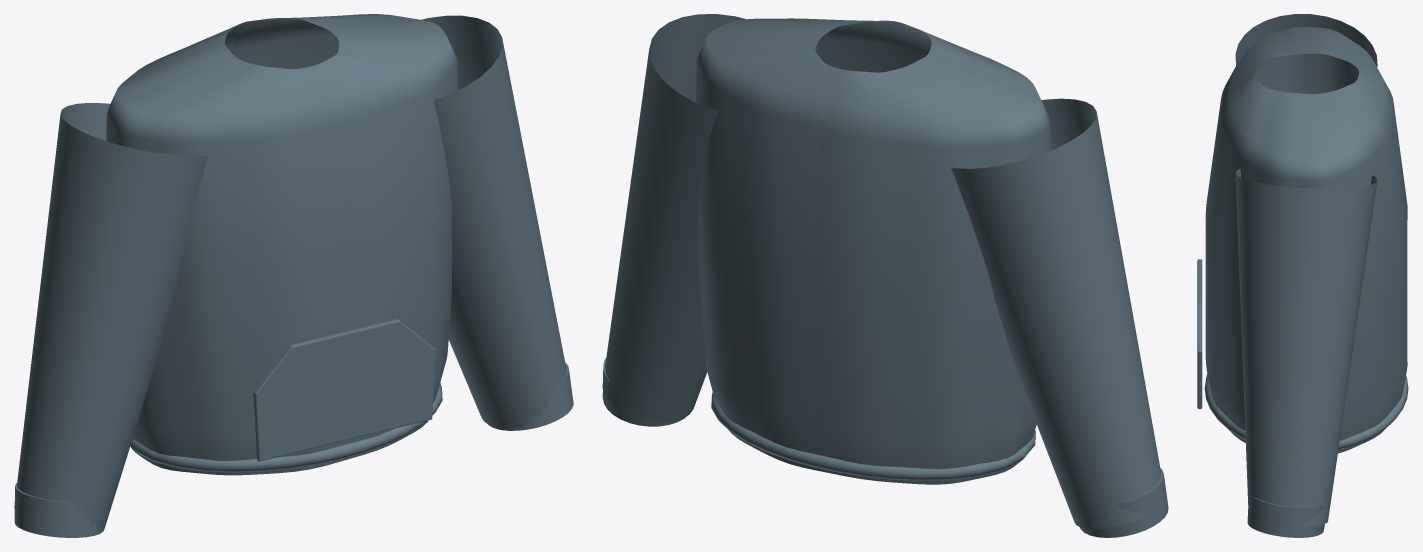
Rendered from sweat-horizon-homme.glb.
3 renders of one model, left to right at view 1: azimuth 30°, elevation 25°; view 2: azimuth 150°, elevation 25°; view 3: azimuth 270°, elevation 25°, orthographic. The views are drawn at different scales.
Visible parts, largest first — view 1: edit-05, long-sleeve (×2); view 2: edit-05, long-sleeve (×2); view 3: edit-05, long-sleeve (×2).
Boxes of the visible parts, box(x1,y1,x2,y2) form: edit-05: box(14, 14, 573, 537); long-sleeve (×2): box(14, 15, 566, 529); edit-05: box(602, 18, 1168, 537); long-sleeve (×2): box(602, 14, 1160, 529); edit-05: box(1197, 27, 1408, 537); long-sleeve (×2): box(1235, 14, 1377, 526).
Bounding box in the file's own units: 0.7702 × 0.5712 × 0.3018.
